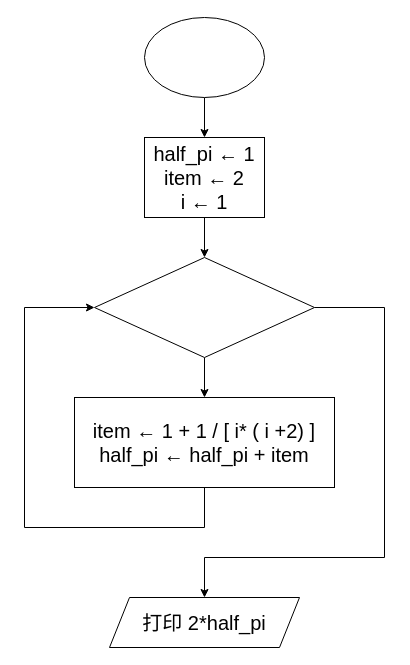
This 410x665 diagram has some shape labels left out. The shapes that lost their labels are listed below. From the top down, each one's centre as x and y in pixels, then its label:
At (204,57): "main函数".
At (204,307): "item >= 1+10^6?".
